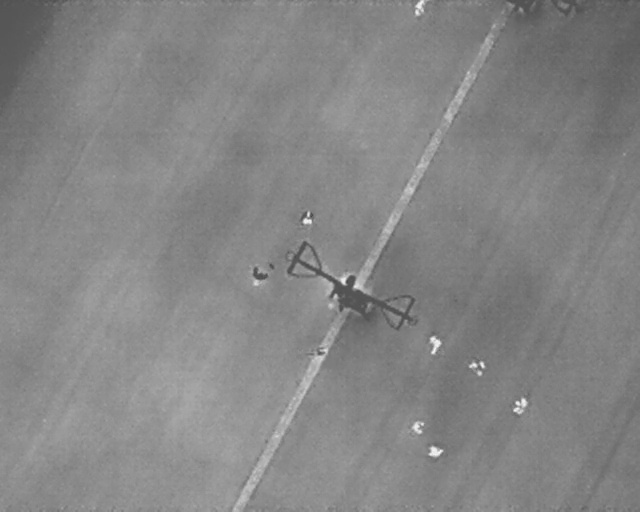Person: (424, 333, 445, 357), (248, 266, 268, 287), (467, 357, 487, 377), (512, 396, 529, 416), (299, 208, 315, 227), (412, 0, 427, 17), (427, 445, 444, 458), (412, 419, 424, 434)
